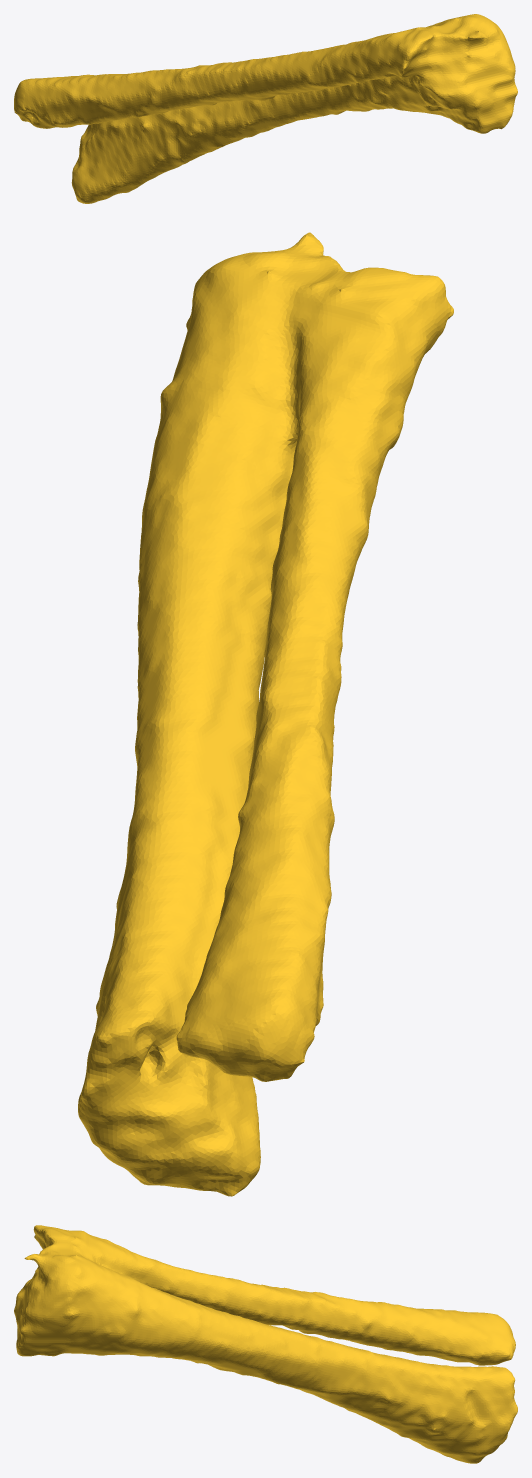
File: tibfibL.glb
The picture shows the model from 3 angles, top to bottom: view 1: azimuth 30°, elevation 25°; view 2: azimuth 150°, elevation 25°; view 3: azimuth 270°, elevation 25°; orthographic projection. The views are drawn at different scales.
Parts seen in each view (by area): view 1: tibfibL; view 2: tibfibL; view 3: tibfibL.
Part boxes in pixels (x1,y1,x2,y2): tibfibL: [14, 14, 517, 203]; tibfibL: [78, 232, 453, 1196]; tibfibL: [14, 1225, 517, 1463].
Size of the model in its own units: 0.00921 by 0.00923 by 0.015.
